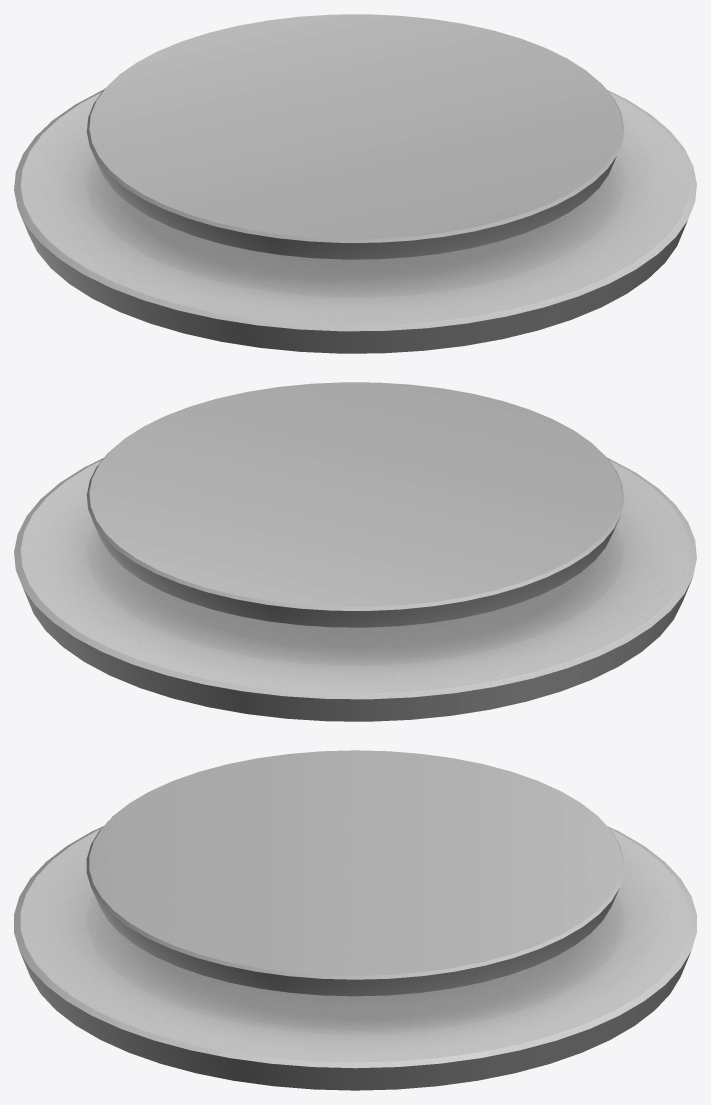
The model's file is CirclePlate2p.gltf.
The picture shows the model from 3 angles, top to bottom: view 1: azimuth 30°, elevation 25°; view 2: azimuth 150°, elevation 25°; view 3: azimuth 270°, elevation 25°; orthographic projection.
Visible parts, largest first — view 1: win002; view 2: win002; view 3: win002.
Part boxes in pixels (x1,y1,x2,y2): win002: (14,14,696,353); win002: (14,382,696,721); win002: (14,750,696,1090).
Size of the model in its own units: 103 by 14.61 by 103.
1 material, 1 textured.
